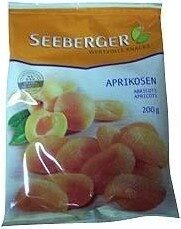Aprikosen: (9, 11, 172, 218)
